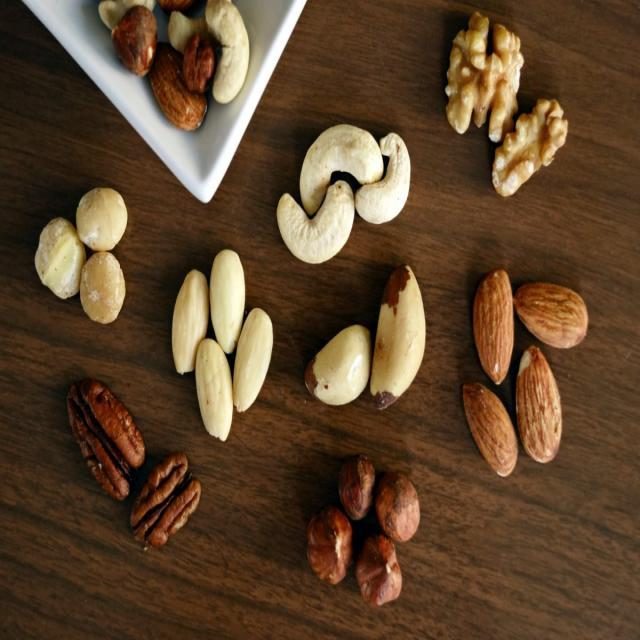Frutta secca: (460, 270, 592, 488), (443, 15, 578, 204), (62, 380, 208, 545), (275, 113, 423, 263), (173, 245, 285, 437), (308, 269, 434, 413), (301, 456, 426, 600), (30, 190, 136, 322)
